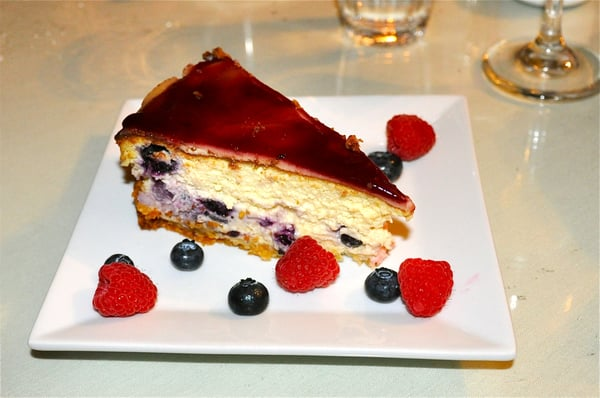pizza: (336, 0, 431, 46)
